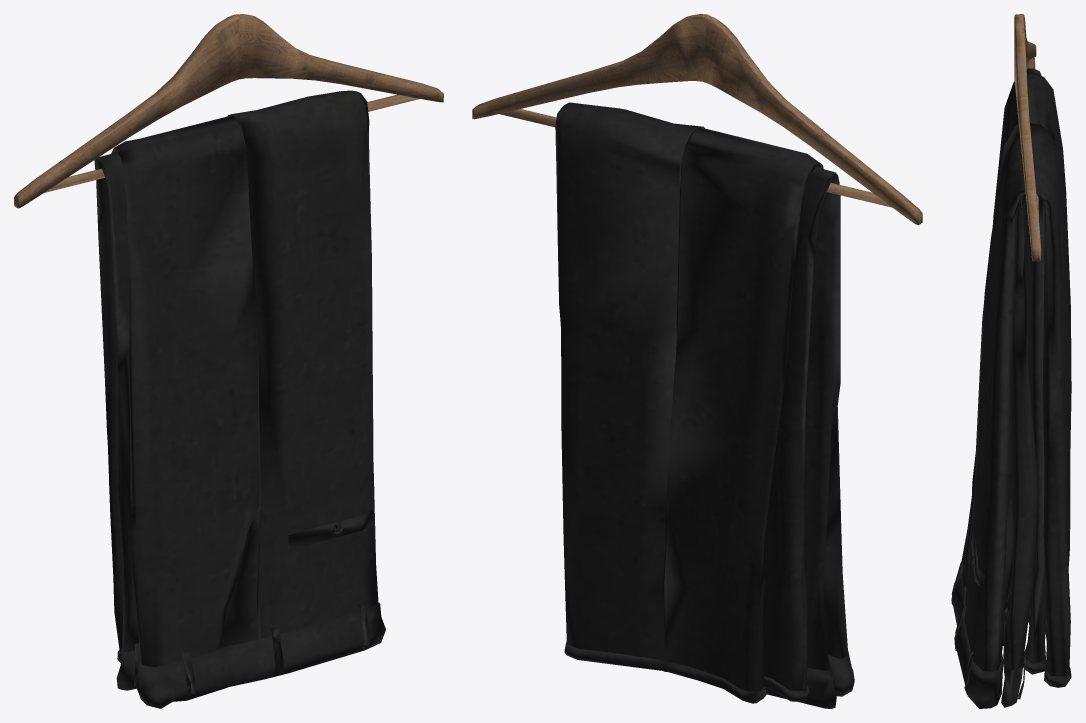
The model's file is hvpants_pantsz_013.glb.
3 views of the same model, side by side, from view 1: azimuth 30°, elevation 25°; view 2: azimuth 150°, elevation 25°; view 3: azimuth 270°, elevation 25° (orthographic). The views are drawn at different scales.
Parts seen in each view (by area): view 1: pants_013_StaticMeshComponent0; view 2: pants_013_StaticMeshComponent0; view 3: pants_013_StaticMeshComponent0.
Boxes of the visible parts, left/top/right/bottom form: pants_013_StaticMeshComponent0: left=14, top=14, right=443, bottom=708; pants_013_StaticMeshComponent0: left=472, top=14, right=922, bottom=708; pants_013_StaticMeshComponent0: left=951, top=14, right=1071, bottom=708.
Bounding box in the file's own units: 0.4373 × 0.6263 × 0.1078.
2 materials, 2 textured.
